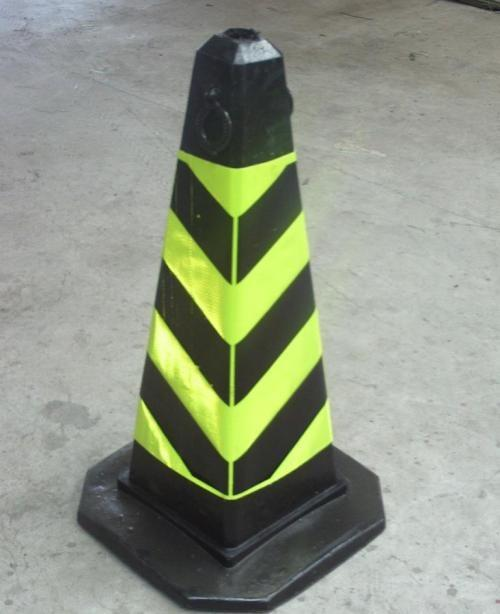cone_barrel: (108, 28, 368, 572)
